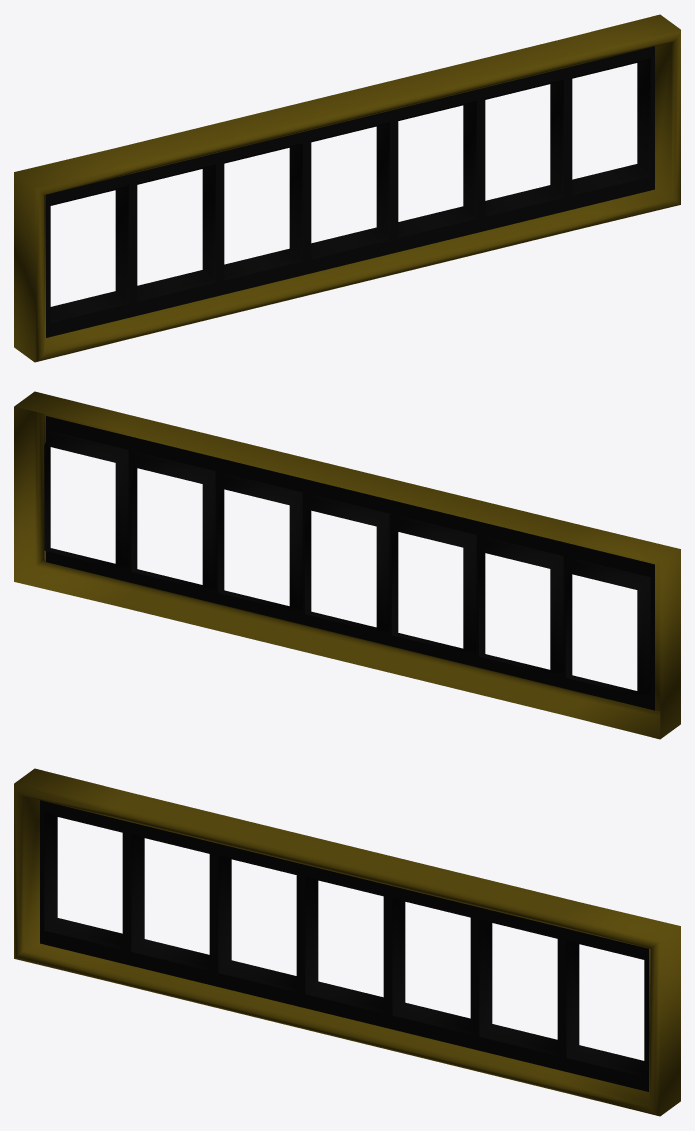
Rendered from Cipher_P2_02_Cipher Letter Display.fbx.
3 renders of one model, top to bottom at view 1: azimuth 30°, elevation 25°; view 2: azimuth 150°, elevation 25°; view 3: azimuth 330°, elevation 25°, orthographic.
Visible parts, largest first — view 1: Letter Slot Frame; view 2: Letter Slot Frame; view 3: Letter Slot Frame.
Part boxes in pixels (x1=…): Letter Slot Frame: x1=14, y1=14, x2=680, y2=362; Letter Slot Frame: x1=14, y1=391, x2=680, y2=739; Letter Slot Frame: x1=14, y1=768, x2=680, y2=1116.
Size of the model in its own units: 106 by 27.51 by 6.45.
